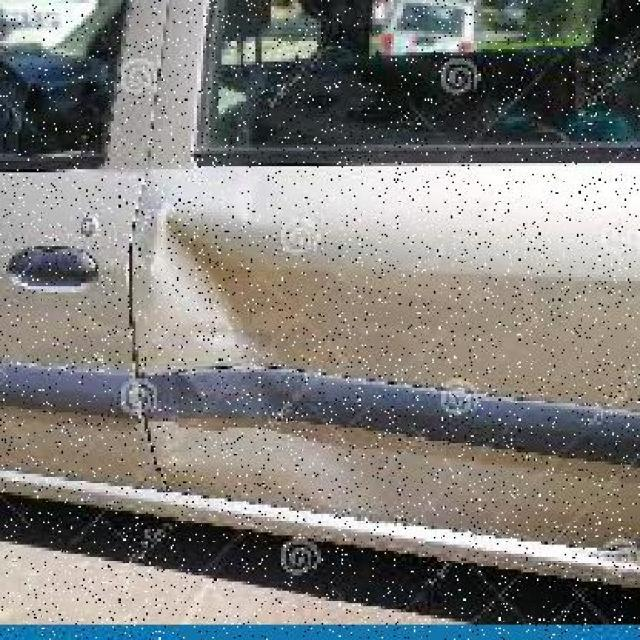car damage: (162, 212, 284, 370), (190, 418, 371, 500)
